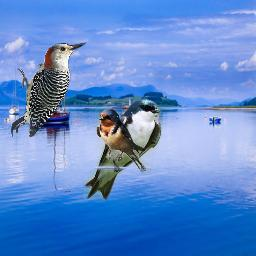Swallow: (83, 98, 162, 200), (95, 108, 145, 171)
Woodpecker: (11, 42, 86, 137)
